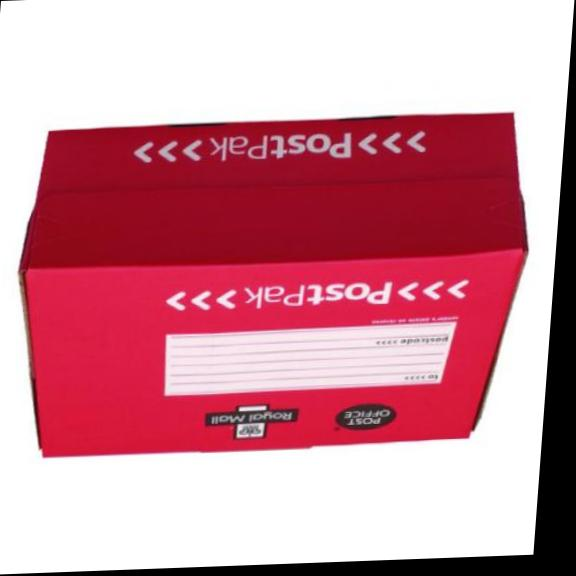Kertas: (19, 114, 525, 455)
